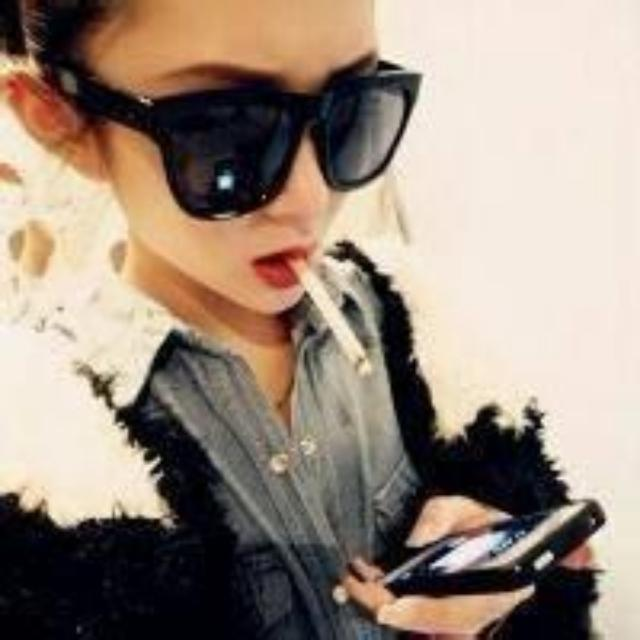Cigarette: (286, 256, 374, 378)
